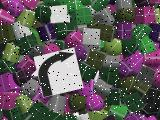Right: (34, 47, 84, 98)
